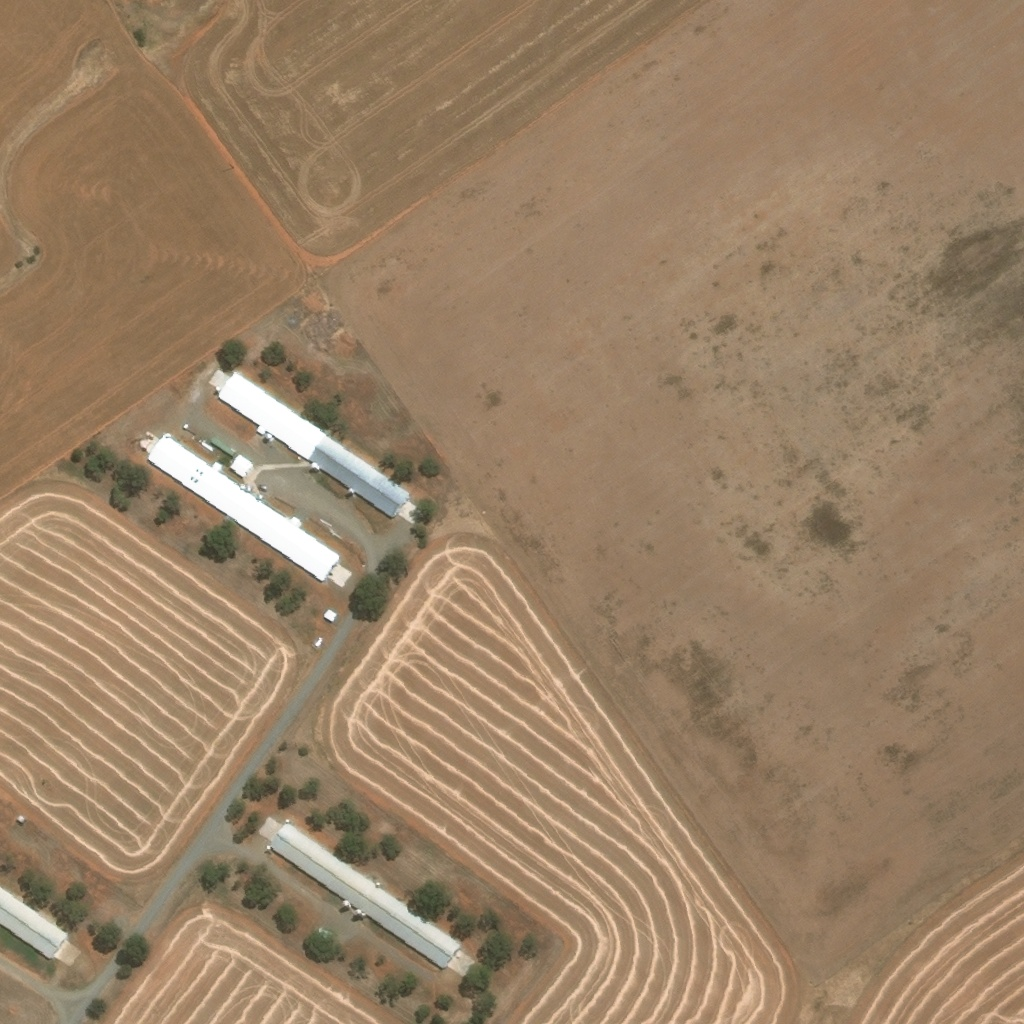0 no-damage: (144, 432, 340, 583), (265, 821, 460, 971), (215, 372, 411, 519), (0, 889, 67, 960), (229, 454, 252, 477), (210, 437, 235, 457), (207, 442, 231, 460), (322, 609, 338, 623), (228, 468, 243, 480), (313, 639, 321, 649), (16, 814, 23, 824)
4 un-classified: (278, 312, 292, 326), (284, 321, 292, 334)
